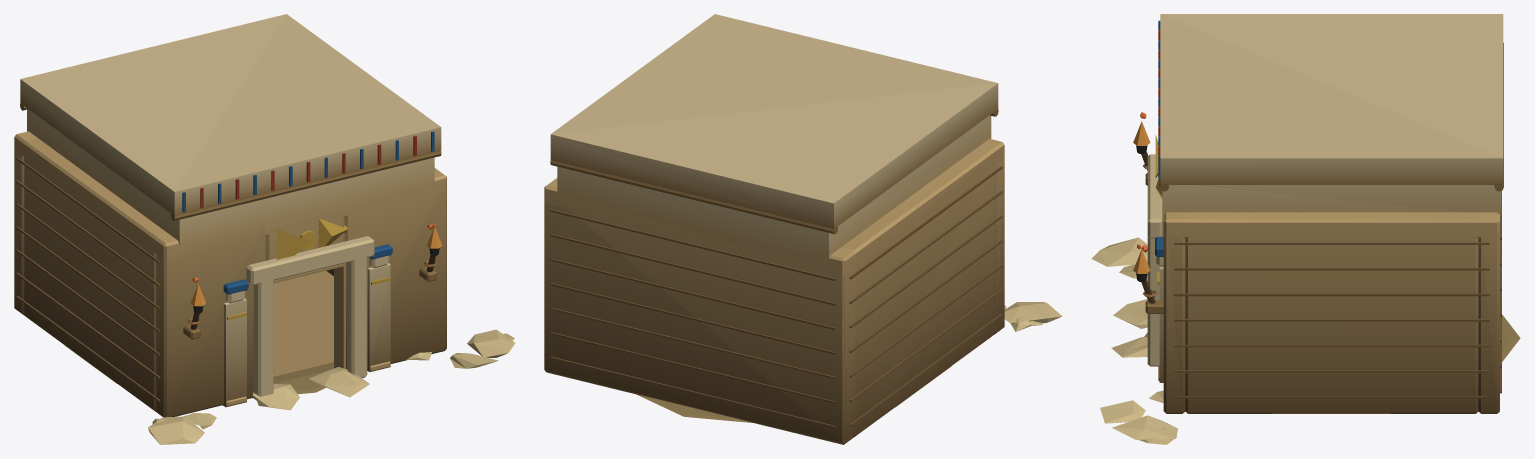
File: tomb-entrance.glb
The picture shows the model from 3 angles, left to right: view 1: azimuth 30°, elevation 25°; view 2: azimuth 150°, elevation 25°; view 3: azimuth 270°, elevation 25°; orthographic projection. The views are drawn at different scales.
Visible parts, largest first — view 1: tomb_entrance; view 2: tomb_entrance; view 3: tomb_entrance.
Boxes of the visible parts, x1,y1,x2,y2 form: tomb_entrance: (14, 14, 515, 444); tomb_entrance: (544, 14, 1062, 444); tomb_entrance: (1091, 14, 1520, 444).
Size of the model in its own units: 7.09 by 4.14 by 6.38.
